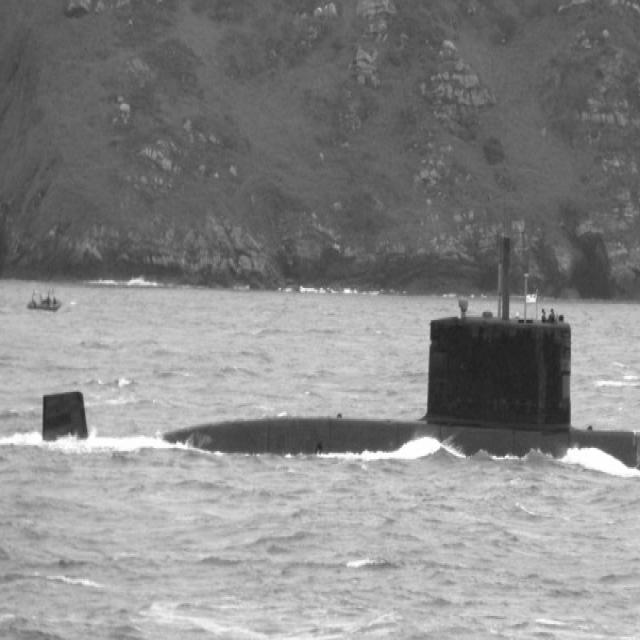submarine: (40, 308, 640, 475)
